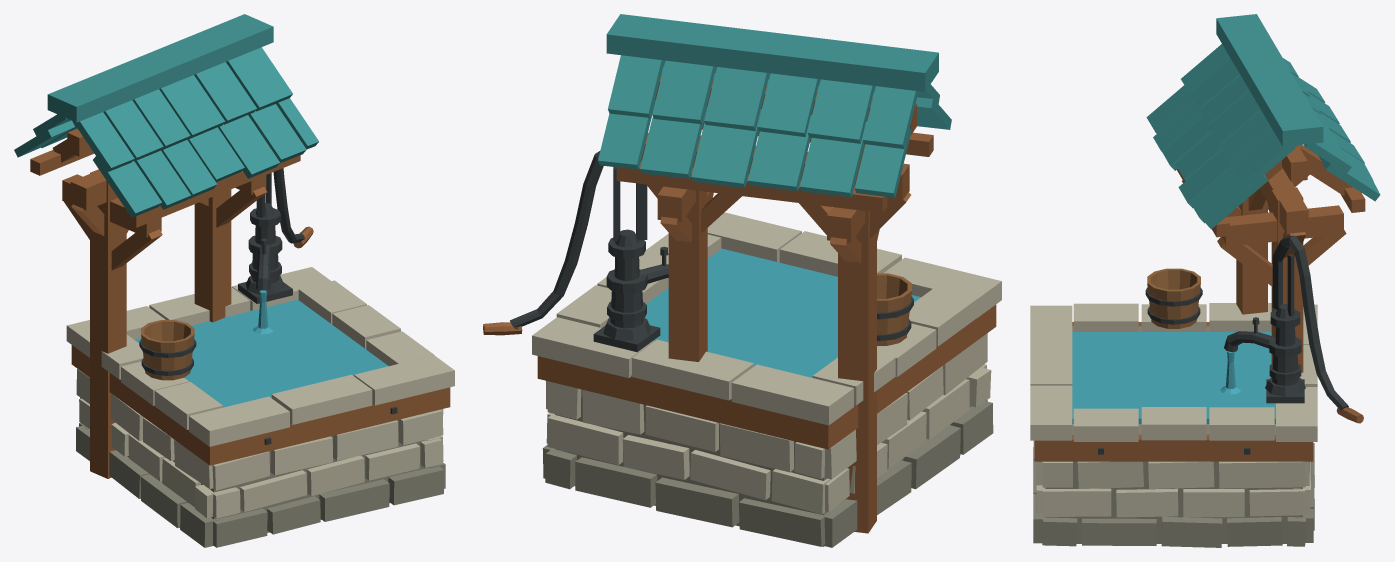
The model's file is water-point-complete.glb.
3 views of the same model, side by side, from view 1: azimuth 30°, elevation 25°; view 2: azimuth 150°, elevation 25°; view 3: azimuth 270°, elevation 25° (orthographic). The views are drawn at different scales.
Parts seen in each view (by area): view 1: roof_planks, rim_coping, frame_timber, stones_wall, water, stones_bottom, rim_band, pump, bucket, basin_core, bucket_hoops; view 2: roof_planks, rim_coping, stones_wall, frame_timber, stones_bottom, water, rim_band, pump, bucket, basin_core; view 3: roof_planks, rim_coping, stones_wall, water, frame_timber, stones_bottom, pump, rim_band, basin_core, bucket, bucket_hoops, water_stream.
Part boxes in pixels (x1=…): roof_planks: x1=14, y1=14, x2=318, y2=217; rim_coping: x1=66, y1=267, x2=454, y2=446; frame_timber: x1=30, y1=128, x2=300, y2=478; stones_wall: x1=76, y1=368, x2=443, y2=518; water: x1=134, y1=299, x2=388, y2=407; stones_bottom: x1=76, y1=423, x2=445, y2=547; rim_band: x1=71, y1=345, x2=450, y2=465; pump: x1=238, y1=168, x2=304, y2=303; bucket: x1=141, y1=320, x2=194, y2=380; basin_core: x1=127, y1=420, x2=435, y2=532; bucket_hoops: x1=139, y1=339, x2=196, y2=375; roof_planks: x1=598, y1=14, x2=951, y2=197; rim_coping: x1=532, y1=212, x2=1001, y2=425; stones_wall: x1=546, y1=333, x2=991, y2=514; frame_timber: x1=616, y1=73, x2=933, y2=533; stones_bottom: x1=542, y1=400, x2=993, y2=547; water: x1=645, y1=248, x2=920, y2=377; rim_band: x1=537, y1=304, x2=996, y2=449; pump: x1=510, y1=151, x2=668, y2=352; bucket: x1=877, y1=273, x2=911, y2=345; basin_core: x1=555, y1=378, x2=971, y2=546; roof_planks: x1=1146, y1=14, x2=1380, y2=229; rim_coping: x1=1030, y1=303, x2=1317, y2=441; stones_wall: x1=1035, y1=461, x2=1311, y2=517; water: x1=1072, y1=331, x2=1275, y2=423; frame_timber: x1=1177, y1=145, x2=1365, y2=372; stones_bottom: x1=1033, y1=440, x2=1314, y2=547; pump: x1=1224, y1=235, x2=1348, y2=410; rim_band: x1=1034, y1=322, x2=1313, y2=461; basin_core: x1=1045, y1=326, x2=1302, y2=543; bucket: x1=1147, y1=268, x2=1200, y2=328; bucket_hoops: x1=1145, y1=287, x2=1202, y2=324; water_stream: x1=1220, y1=351, x2=1241, y2=394.
Size of the model in its own units: 2.13 by 2.48 by 2.01.
